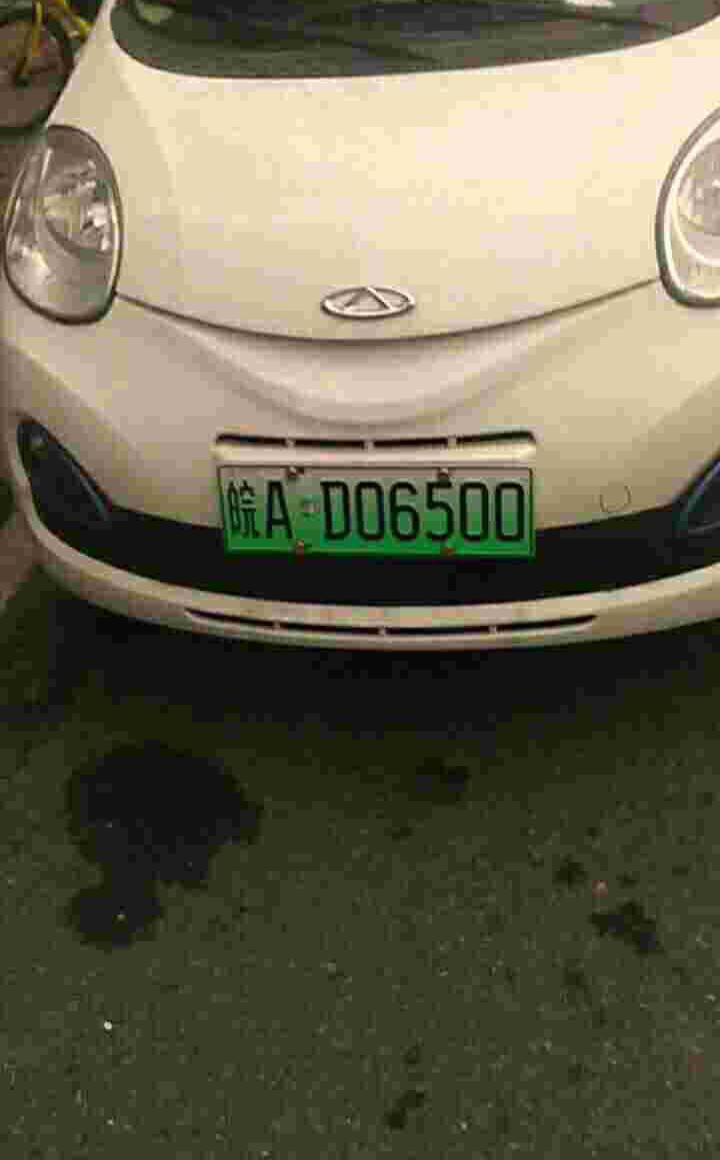car_green: (211, 456, 548, 566)
